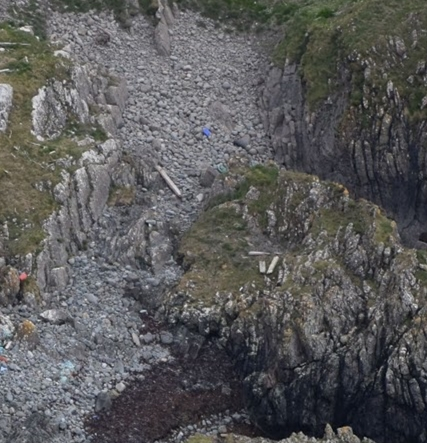straight_bar: (154, 156, 188, 202)
white_in_green: (184, 111, 232, 151), (2, 253, 50, 293)
